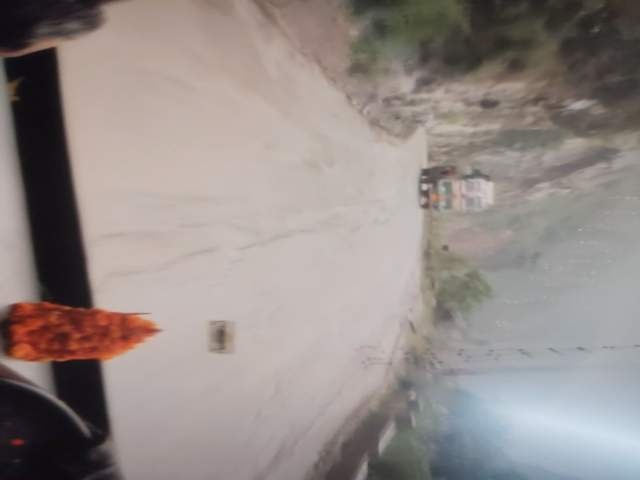pothole: (230, 311, 330, 391)
